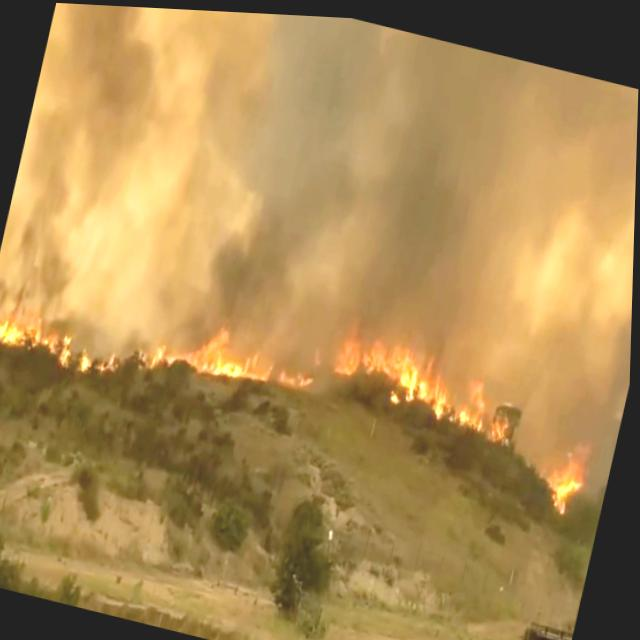fire: (338, 315, 482, 427)
smoke: (5, 0, 187, 260)
